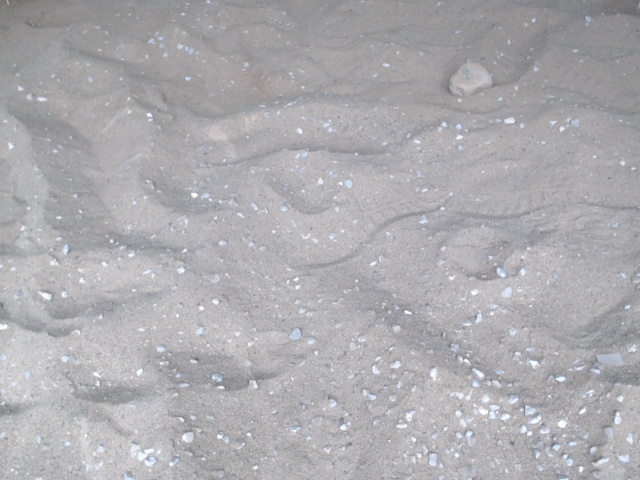rock: (444, 56, 499, 100)
